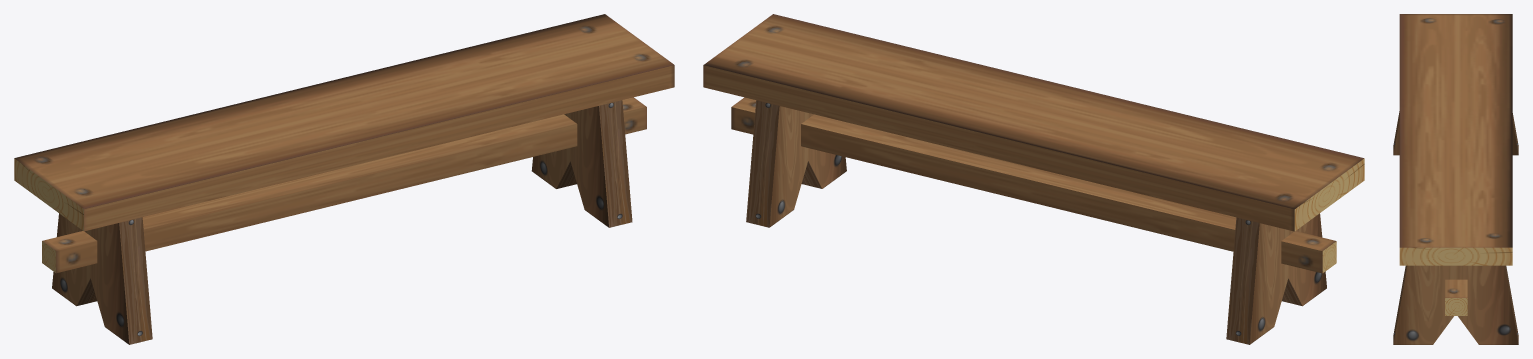
File: Bench_01.FBX
3 views of the same model, side by side, from view 1: azimuth 30°, elevation 25°; view 2: azimuth 150°, elevation 25°; view 3: azimuth 270°, elevation 25° (orthographic). The views are drawn at different scales.
Parts seen in each view (by area): view 1: Bench_01; view 2: Bench_01; view 3: Bench_01.
Boxes of the visible parts, left/top/right/bottom form: Bench_01: left=14, top=14, right=674, bottom=344; Bench_01: left=703, top=14, right=1364, bottom=344; Bench_01: left=1393, top=14, right=1518, bottom=344.
Size of the model in its own units: 2.46 by 0.5687 by 0.5581.
